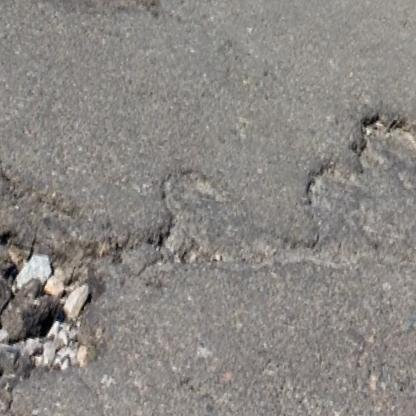pothole: (293, 97, 416, 284), (0, 203, 121, 391), (145, 163, 256, 275), (0, 0, 163, 29)
